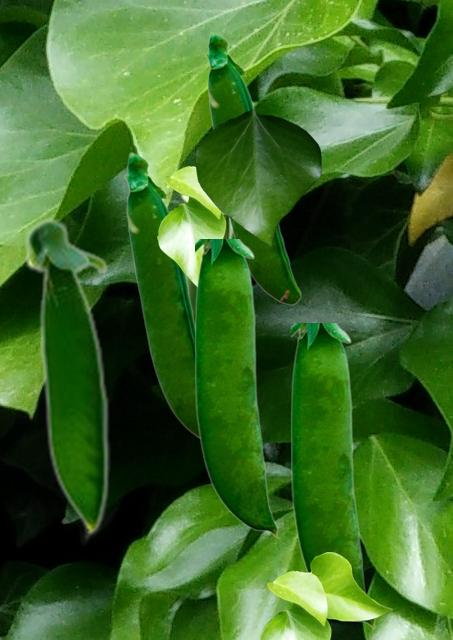pea: (23, 216, 109, 540), (205, 31, 300, 304), (291, 323, 374, 628), (195, 239, 277, 537), (124, 151, 198, 438), (176, 193, 233, 315)
